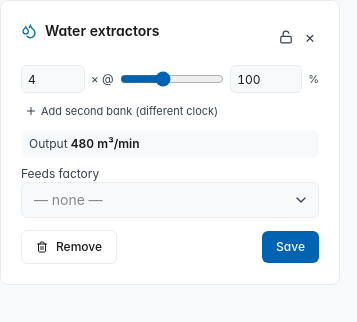
Scenario: <WaterExtractorPopover /> — factory binding › is a combobox, not a native select — every option is reachable through it
Click the dropdown labelled "Feeds factory": (170, 200) [21,182,319,218]
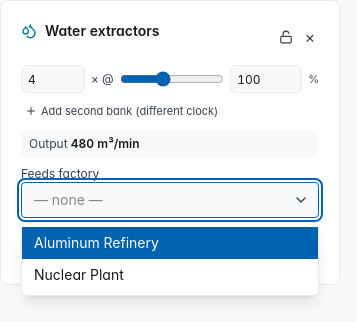
Expected: the option "Aluminum Refinery" is shown, [22,227,318,259]
Expected: the option "Nuclear Plant" is shown, [34,266,124,283]
